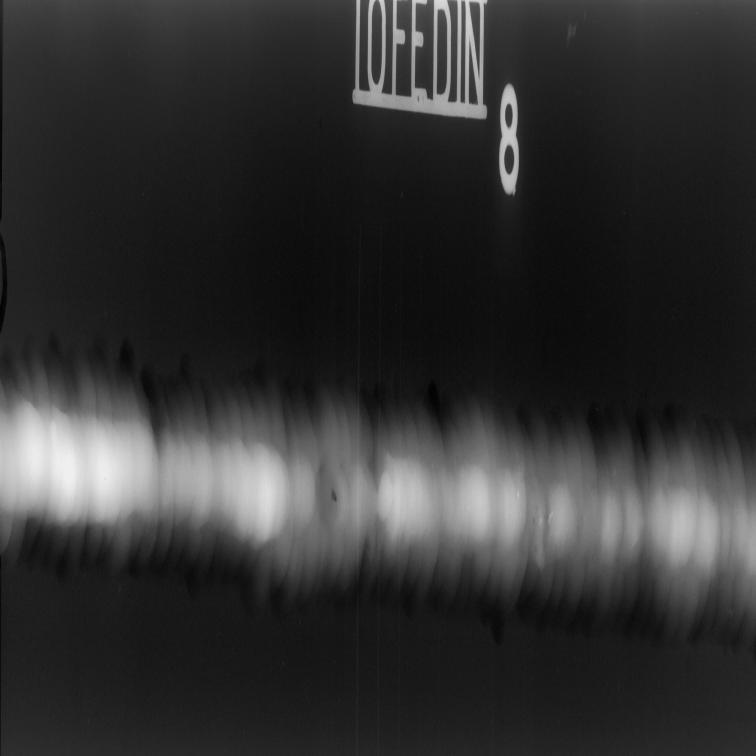FF: (0, 509, 756, 660), (2, 336, 756, 473)
FP: (328, 478, 340, 508)
PE: (0, 418, 289, 546), (381, 446, 526, 545), (648, 484, 753, 586)
